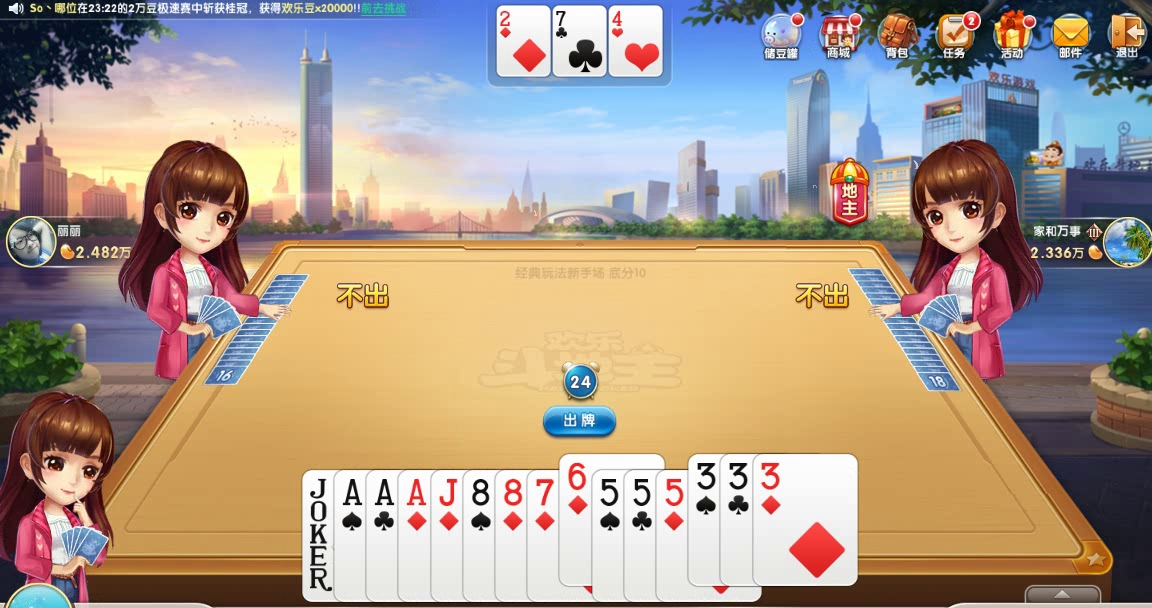11~1: (429, 469, 535, 602)
14~1: (398, 469, 504, 602)
14~2: (365, 469, 471, 602)
14~4: (333, 469, 439, 602)
15~1: (494, 4, 550, 78)
17~3: (302, 469, 408, 602)
3~1: (753, 453, 859, 586)
3~2: (719, 453, 825, 586)
3~4: (689, 453, 795, 586)
4~3: (607, 4, 663, 78)
5~1: (655, 469, 761, 602)
5~2: (624, 469, 730, 602)
5~4: (590, 469, 696, 602)
6~1: (559, 453, 665, 586)
7~1: (527, 469, 633, 602)
7~2: (551, 3, 607, 77)
8~1: (495, 469, 601, 602)
8~4: (463, 469, 569, 602)
